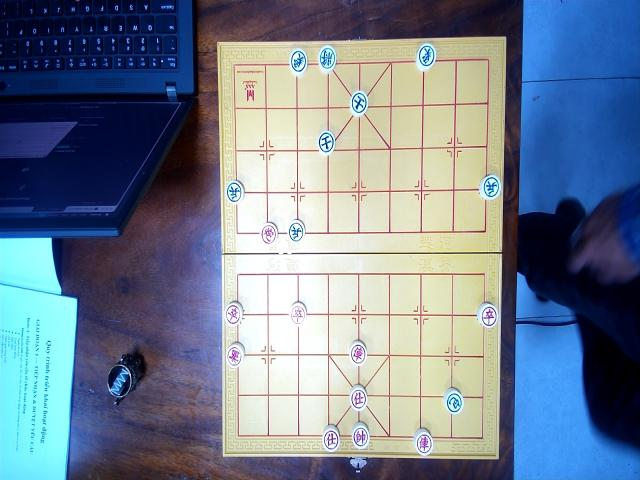piece: (478, 173, 500, 200), (415, 42, 436, 70), (477, 301, 498, 328), (413, 428, 433, 456), (443, 387, 463, 415), (322, 423, 341, 452), (350, 422, 370, 449), (225, 301, 244, 327), (349, 384, 367, 411), (350, 89, 368, 116), (289, 48, 307, 75), (318, 45, 336, 72), (226, 342, 245, 367), (225, 179, 244, 204), (348, 339, 366, 365), (318, 129, 336, 155), (290, 300, 306, 325), (288, 219, 304, 242), (260, 222, 276, 244)
